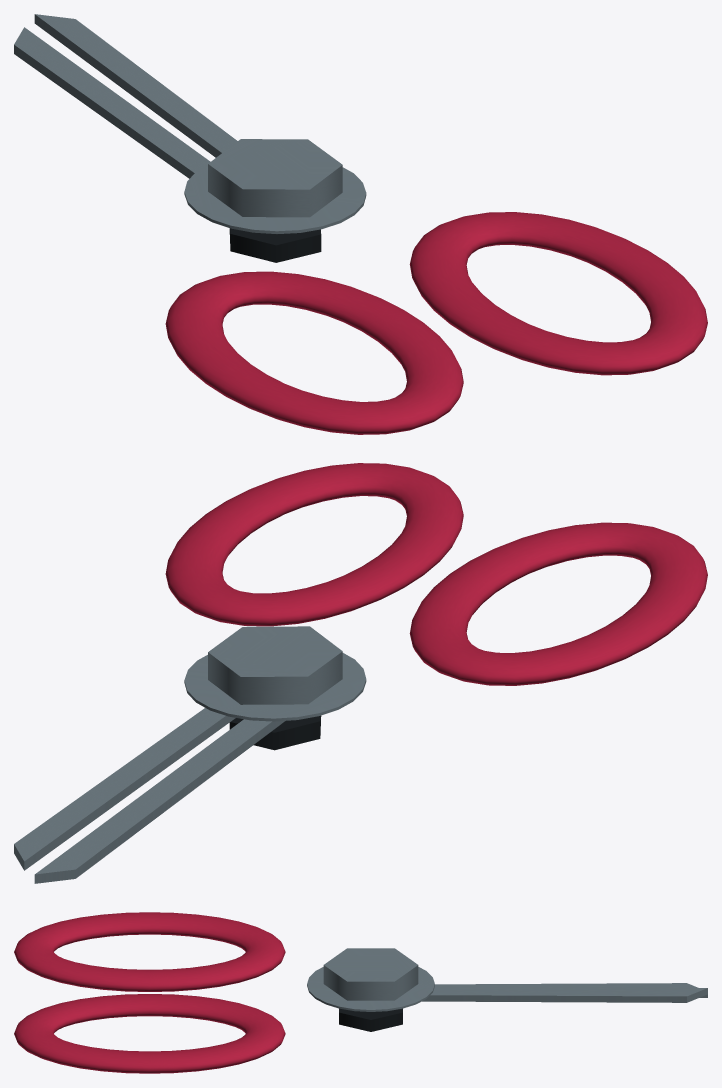
The model's file is FloralSnips.gltf.
3 views of the same model, one above another, from view 1: azimuth 30°, elevation 25°; view 2: azimuth 150°, elevation 25°; view 3: azimuth 270°, elevation 25° (orthographic). The views are drawn at different scales.
Parts seen in each view (by area): view 1: FloralSnips__Body; view 2: FloralSnips__Body; view 3: FloralSnips__Body.
Boxes of the visible parts, bbox=[...] form: FloralSnips__Body: bbox=[14, 14, 707, 434]; FloralSnips__Body: bbox=[14, 463, 707, 883]; FloralSnips__Body: bbox=[14, 912, 707, 1073].
Bounding box in the file's own units: 0.0977 × 0.0153 × 0.1842.
Materials: 1 (1 with a texture image).
